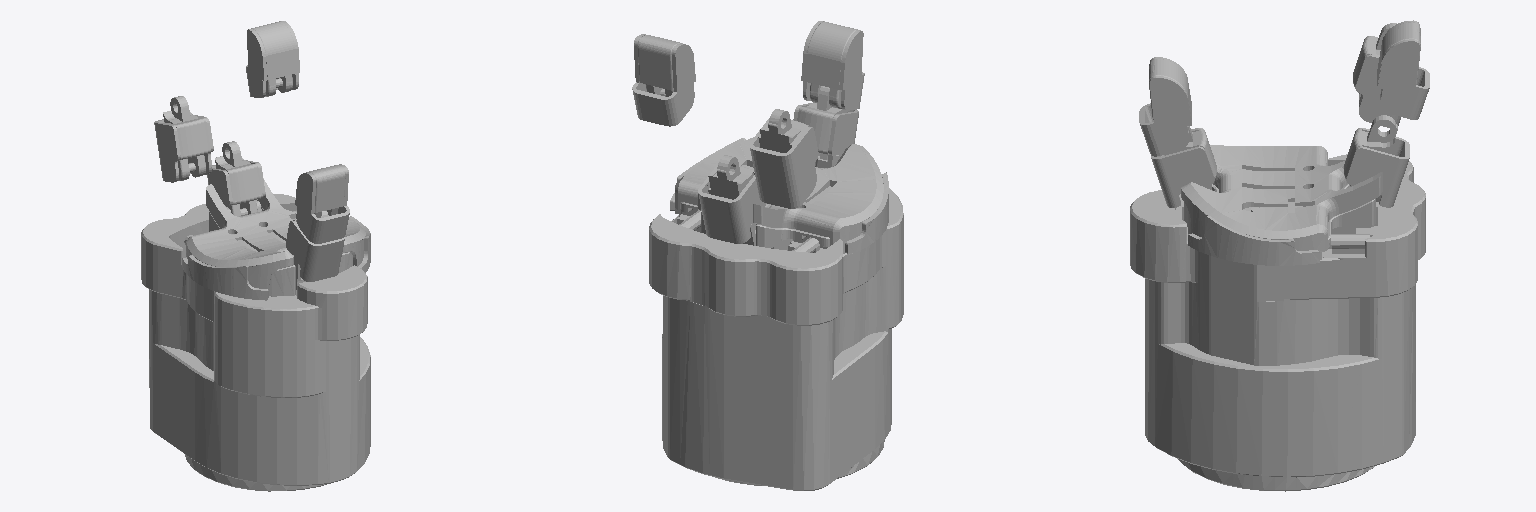
--- Render facts (derived) ---
3 views of the same robot in one strip: view 1: azimuth 30°, elevation 25°; view 2: azimuth 150°, elevation 25°; view 3: azimuth 270°, elevation 25° (orthographic).
Robot: heri_II_new — 21 links, 20 joints (19 revolute, 1 fixed); root link world; default pose: every joint at zero.
Links seen in each view (by area): view 1: base_link, LFP1_2, SFP1_2, LFP3_3, LFP2_1, SFB1_1; view 2: base_link, LFP1_2, LFP3_3, SFP1_2, LFP2_1, SFB1_1; view 3: base_link, LFP3_3, SFP1_2, LFP2_1, SFB1_1, LFP1_2.
Boxes of the visible links, x1,y1,x2,y2 form: base_link: [141, 178, 370, 491]; LFP1_2: [154, 96, 213, 182]; SFP1_2: [295, 164, 349, 243]; LFP3_3: [246, 21, 299, 97]; LFP2_1: [207, 141, 265, 216]; SFB1_1: [286, 211, 344, 281]; base_link: [649, 137, 903, 490]; LFP1_2: [750, 109, 818, 208]; LFP3_3: [632, 34, 695, 126]; SFP1_2: [801, 21, 864, 110]; LFP2_1: [698, 155, 766, 243]; SFB1_1: [793, 86, 858, 160]; base_link: [1130, 145, 1425, 491]; LFP3_3: [1377, 20, 1429, 119]; SFP1_2: [1139, 57, 1191, 156]; LFP2_1: [1344, 115, 1409, 207]; SFB1_1: [1151, 126, 1216, 207]; LFP1_2: [1353, 23, 1400, 127].
Size in the robot's own frame: 0.1112 by 0.142 by 0.2316 metres.
8 mesh visuals loaded from 16 distinct referenced files (8 binary STL); not drawn: 8 (reference not matched to a file when rendering).

The robot description file, URDF, robot "heri_II_new":
<?xml version="1.0" ?>
<!-- =================================================================================== -->
<!-- |    This document was autogenerated by xacro from heri_II_NL.xacro               | -->
<!-- |    EDITING THIS FILE BY HAND IS NOT RECOMMENDED                                 | -->
<!-- =================================================================================== -->
<robot name="heri_II_new" xmlns:xacro="http://ros.org/wiki/xacro">
  <!-- rosee plugin -->
  <gazebo>
    <plugin filename="libHeriIIPlugin.so" name="heri_controller">
      </plugin>
  </gazebo>
  <!-- /////////////////////////////////   Gazebo   ////////////////////////////////////// -->
  <gazebo reference="base_link">
    <fudgeFactor value="0.5"/>
    <material>Gazebo/Red</material>
  </gazebo>
  <gazebo reference="SFB1">
    <fudgeFactor value="0.5"/>
    <material>Gazebo/White</material>
  </gazebo>
  <gazebo reference="SFB1_1">
    <fudgeFactor value="0.5"/>
    <material>Gazebo/White</material>
  </gazebo>
  <gazebo reference="SFP1_2">
    <fudgeFactor value="0.5"/>
    <material>Gazebo/Blue</material>
  </gazebo>
  <gazebo reference="LFB1">
    <fudgeFactor value="0.5"/>
    <material>Gazebo/White</material>
  </gazebo>
  <gazebo reference="LFP1_1">
    <fudgeFactor value="0.5"/>
    <material>Gazebo/White</material>
  </gazebo>
  <gazebo reference="LFP1_2">
    <fudgeFactor value="0.5"/>
    <material>Gazebo/White</material>
  </gazebo>
  <gazebo reference="LFP1_3">
    <fudgeFactor value="0.5"/>
    <material>Gazebo/Blue</material>
  </gazebo>
  <gazebo reference="LFB2">
    <fudgeFactor value="0.5"/>
    <material>Gazebo/White</material>
  </gazebo>
  <gazebo reference="LFP2_1">
    <fudgeFactor value="0.5"/>
    <material>Gazebo/White</material>
  </gazebo>
  <gazebo reference="LFP2_2">
    <fudgeFactor value="0.5"/>
    <material>Gazebo/White</material>
  </gazebo>
  <gazebo reference="LFP2_3">
    <fudgeFactor value="0.5"/>
    <material>Gazebo/Blue</material>
  </gazebo>
  <material name="Black">
    <color rgba="0 0 0 1"/>
  </material>
  <material name="White">
    <color rgba="1 1 1 1"/>
  </material>
  <material name="Blue">
    <color rgba="0 0 1 1"/>
  </material>
  <material name="Red">
    <color rgba="1 0 0 1"/>
  </material>
  <!-- ///////////////////////////////////////   Short Finger   ////////////////////////////////////////// -->
  <!-- ///////////////////////////////////////   base_link   ////////////////////////////////////////// -->
  <link name="world"/>
  <joint name="world_base" type="fixed">
    <!-- z!= from 1 is necessary because otherwise the hand has tremors. I think this is because it compentetrate
     with the terrain ? -->
    <origin rpy="0 0 0" xyz="0 0 0.015"/>
    <parent link="world"/>
    <child link="base_link"/>
  </joint>
  <link name="base_link">
    <inertial>
      <origin rpy="0 0 0" xyz="0.00030739 0.003138 -0.0012876"/>
      <mass value="0.73864"/>
      <inertia ixx="0.0010292" ixy="-6.0935E-06" ixz="1.0739E-05" iyy="0.0011781" iyz="1.3882E-05" izz="0.00089393"/>
    </inertial>
    <visual>
      <origin rpy="0 0 0" xyz="0 0 0"/>
      <geometry>
        <mesh filename="package://ros_end_effector/configs/meshes/heri_II/base_heri_ii.STL"/>
      </geometry>
      <material name="">
        <color rgba="0.75294 0.75294 0.75294 1"/>
      </material>
    </visual>
    <collision>
      <origin rpy="0 0 0" xyz="0 0 0"/>
      <geometry>
        <mesh filename="package://ros_end_effector/configs/meshes/heri_II/base_heri_ii.STL"/>
      </geometry>
    </collision>
  </link>
  <!-- I Put motors as joints, linked to tree with virtual links  -->
  <link name="motor_finger1_virtual_link">
   <inertial> <!-- We need inertial otherwise gazebo does not load the motor joints. I put very low inertia-->
      <origin rpy="0 0 0" xyz="0 0 0"/>
      <mass value="0.01"/>
      <inertia ixx="0.0001" ixy="0.0" ixz="0.0" iyy="0.0001" iyz="0.0" izz="0.0001"/>
    </inertial>
  </link>
  <link name="motor_finger2_virtual_link">
   <inertial> <!-- We need inertial otherwise gazebo does not load the motor joints. I put very low inertia-->
      <origin rpy="0 0 0" xyz="0 0 0"/>
      <mass value="0.01"/>
      <inertia ixx="0.0001" ixy="0.0" ixz="0.0" iyy="0.0001" iyz="0.0" izz="0.0001"/>
    </inertial>
  </link>
  <link name="motor_finger3_virtual_link">
     <inertial> <!-- We need inertial otherwise gazebo does not load the motor joints. I put very low inertia-->
      <origin rpy="0 0 0" xyz="0 0 0"/>
      <mass value="0.01"/>
      <inertia ixx="0.0001" ixy="0.0" ixz="0.0" iyy="0.0001" iyz="0.0" izz="0.0001"/>
    </inertial>
  </link>
  <link name="motor_thumb_virtual_link">
     <inertial> <!-- We need inertial otherwise gazebo does not load the motor joints. I put very low inertia-->
      <origin rpy="0 0 0" xyz="0 0 0"/>
      <mass value="0.01"/>
      <inertia ixx="0.0001" ixy="0.0" ixz="0.0" iyy="0.0001" iyz="0.0" izz="0.0001"/>
    </inertial>
  </link>
  <joint name="motor_finger1" type="revolute">
    <origin rpy="0 0 0" xyz="0 0 0"/>
    <parent link="base_link"/>
    <child link="motor_finger1_virtual_link"/>
    <limit effort="10" lower="0" upper="2.5" velocity="1"/>
    <dynamics damping="0.003" friction="0.003"/>
  </joint>
  <joint name="motor_finger2" type="revolute">
    <origin rpy="0 0 0" xyz="0 0 0"/>
    <parent link="base_link"/>
    <child link="motor_finger2_virtual_link"/>
    <limit effort="10" lower="0" upper="2.5" velocity="1"/>
    <dynamics damping="0.003" friction="0.003"/>
  </joint>
  <joint name="motor_finger3" type="revolute">
    <origin rpy="0 0 0" xyz="0 0 0"/>
    <parent link="base_link"/>
    <child link="motor_finger3_virtual_link"/>
    <limit effort="10" lower="0" upper="2.5" velocity="1"/>
    <dynamics damping="0.003" friction="0.003"/>
  </joint>
  <joint name="motor_thumb" type="revolute">
    <origin rpy="1.5708 -1.5708 0" xyz="7.6421E-05 -0.031634 0.1213"/>
    <parent link="base_link"/>
    <child link="motor_thumb_virtual_link"/>
    <limit effort="10" lower="0" upper="2" velocity="1"/>
    <dynamics damping="0.003" friction="0.003"/>
  </joint>
  <!-- ///////////////////////////////////////   Base_Link of the short_finger   ////////////////////////////////////////// -->
  <link name="SFB1">
    <inertial>
      <origin rpy="0 0 0" xyz="3.9400487E-03 0 6.4488006E-03"/>
      <mass value="4.1065000E-03"/>
      <inertia ixx="4.3061452E-07" ixy="0" ixz="-1.2027573E-07" iyy="3.9605806E-07" iyz="0" izz="3.9738552E-07"/>
    </inertial>
    <visual>
      <origin rpy="0 0 0" xyz="0 0 0"/>
      <geometry>
        <mesh filename="package://ros_end_effector/configs/meshes/heri_II/SFB1.STL"/>
      </geometry>
      <material name="">
        <color rgba="0.75294 0.75294 0.75294 1"/>
      </material>
    </visual>
    <collision>
      <origin rpy="0 0 0" xyz="0 0 0"/>
      <geometry>
        <mesh filename="package://ros_end_effector/configs/meshes/heri_II/SFB1.STL"/>
      </geometry>
    </collision>
  </link>
  <!-- ///////////////////////////////////////   Joint of BASE and the base_link of the short finger   ////////////////////////////////////////// -->
  <joint name="BASE__SFB1" type="revolute">
    <origin rpy="1.5708 -1.5708 0" xyz="7.6421E-05 -0.031634 0.1213"/>
    <parent link="base_link"/>
    <child link="SFB1"/>
    <axis xyz="0 0 1"/>
    <limit effort="10" lower="-0.1" upper="0.1" velocity="1"/>
    <dynamics damping="0.003" friction="0.003"/>
  </joint>
  <!-- ///////////////////////////////////////   First phalanx of the Short_Finger   ////////////////////////////////////////// -->
  <link name="SFB1_1">
    <inertial>
      <origin rpy="0 0 0" xyz="0.013537693 -0.00011389541 0.00014514898"/>
      <mass value="0.021630428"/>
      <inertia ixx="1.7547572E-06" ixy="1.2425281E-07" ixz="-5.2776703E-08" iyy="7.3422819E-06" iyz="-1.1395559E-09" izz="7.1587820E-06"/>
    </inertial>
    <visual>
      <origin rpy="0 0 0" xyz="0 0 0"/>
      <geometry>
        <mesh filename="package://ros_end_effector/configs/meshes/heri_II/SFB1_1.STL"/>
      </geometry>
      <material name="">
        <color rgba="0.75294 0.75294 0.75294 1"/>
      </material>
    </visual>
    <collision>
      <origin rpy="0 0 0" xyz="0 0 0"/>
      <geometry>
        <mesh filename="package://ros_end_effector/configs/meshes/heri_II/SFB1_1.STL"/>
      </geometry>
    </collision>
  </link>
  <!-- ///////////////////////////////////////   Joint of base_link and the first phalanx of the short finger   ////////////////////////////////////////// -->
  <joint name="SFB1__SFP1_1" type="revolute">
    <origin rpy="1.5708 -0.29671 0" xyz="0.011 0 0.007"/>
    <parent link="SFB1"/>
    <child link="SFB1_1"/>
    <axis xyz="0 0 -1"/>
    <limit effort="10" lower="-0.1" upper="0.9" velocity="1"/>
    <dynamics damping="0.003" friction="0.003"/>
    <!-- joint of the first phalange of thumb -->
    <mimic joint="motor_thumb" nlFunPos="-9.144*x^4 + 11.02*x^3 + -3.932*x^2 + 1.401*x + -0.002157"/>
  </joint>
  <!-- ///////////////////////////////////////   Tip phalanx of the short finger   ////////////////////////////////////////// -->
  <link name="SFP1_2">
    <inertial>
      <origin rpy="0 0 0" xyz="0.012398348 -0.00034958691 0.000050212619"/>
      <mass value="0.02226615"/>
      <inertia ixx="1.7400409E-06" ixy="4.4309075E-07" ixz="-1.3771833E-08" iyy="6.8917616E-06" iyz="6.4562527E-09" izz="6.4653229E-06"/>
    </inertial>
    <visual>
      <origin rpy="0 0 0" xyz="0 0 0"/>
      <geometry>
        <mesh filename="package://ros_end_effector/configs/meshes/heri_II/SFP1_2.STL"/>
      </geometry>
      <material name="">
        <color rgba="0.75294 0.75294 0.75294 1"/>
      </material>
    </visual>
    <collision>
      <origin rpy="0 0 0" xyz="0 0 0"/>
      <geometry>
        <mesh filename="package://ros_end_effector/configs/meshes/heri_II/SFP1_2.STL"/>
      </geometry>
    </collision>
  </link>
  <!-- ///////////////////////////////////////   Joint of first and tip phalanxs of the short finger   ////////////////////////////////////////// -->
  <joint name="SFP1_1__SFP1_2" type="revolute">
    <origin rpy="0 0 0" xyz="0.035 0 0"/>
    <parent link="SFB1_1"/>
    <child link="SFP1_2"/>
    <axis xyz="0 0 -1"/>
    <limit effort="10" lower="-0.1" upper="1.2" velocity="1"/>
    <dynamics damping="0.003" friction="0.003"/>
    <!-- joint of the 2 phalange of thumb -->
    <mimic joint="motor_thumb" nlFunPos="6.076*x^4 + -7.902*x^3 + 2.248*x^2 + 0.739*x + 0.001644"/>
  </joint>
  <!-- ///////////////////////////////////////   Long finger 1   ////////////////////////////////////////// -->
  <!-- ///////////////////////////////////////   Base_Link of the long_finger   ////////////////////////////////////////// -->
  <link name="LFB1">
    <inertial>
      <origin rpy="0 0 0" xyz="0.000045491656 -0.0037522651 0.0064111226"/>
      <mass value="0.0039598861"/>
      <inertia ixx="4.3061452E-07" ixy="0" ixz="-1.2027573E-07" iyy="3.9605806E-07" iyz="0" izz="3.9738552E-07"/>
    </inertial>
    <visual>
      <origin rpy="0 0 0" xyz="0 0 0"/>
      <geometry>
        <mesh filename="package://ros_end_effector/configs/meshes/heri_II/LFB1.STL"/>
      </geometry>
      <material name="">
        <color rgba="0.75294 0.75294 0.75294 1"/>
      </material>
    </visual>
    <collision>
      <origin rpy="0 0 0" xyz="0 0 0"/>
      <geometry>
        <mesh filename="package://ros_end_effector/configs/meshes/heri_II/LFB1.STL"/>
      </geometry>
    </collision>
  </link>
  <!-- ///////////////////////////////////////   Joint of BASE and the base_link of the short finger   ////////////////////////////////////////// -->
  <joint name="BASE__LFB1" type="revolute">
    <origin rpy="1.5708 -1.5708 3.1415927" xyz="-0.031002 0.025903 0.1213"/>
    <parent link="base_link"/>
    <child link="LFB1"/>
    <axis xyz="0 0 1"/>
    <limit effort="10" lower="-0.1" upper="0.1" velocity="1"/>
    <dynamics damping="0.003" friction="0.003"/>
  </joint>
  <!-- ///////////////////////////////////////   First phalanx of the Long_Finger   ////////////////////////////////////////// -->
  <link name="LFP1_1">
    <inertial>
      <origin rpy="0 0 0" xyz="0.013537693 -0.00011389541 0.00014514898"/>
      <mass value="0.021630428"/>
      <inertia ixx="1.7547572E-06" ixy="1.2425281E-07" ixz="-5.2776703E-08" iyy="7.3422819E-06" iyz="-1.1395559E-09" izz="7.1587820E-06"/>
    </inertial>
    <visual>
      <origin rpy="0 0 0" xyz="0 0 0"/>
      <geometry>
        <mesh filename="package://ros_end_effector/configs/meshes/heri_II/LFP1_1.STL"/>
      </geometry>
      <material name="">
        <color rgba="0.75294 0.75294 0.75294 1"/>
      </material>
    </visual>
    <collision>
      <origin rpy="0 0 0" xyz="0 0 0"/>
      <geometry>
        <mesh filename="package://ros_end_effector/configs/meshes/heri_II/LFP1_1.STL"/>
      </geometry>
    </collision>
  </link>
  <!-- ///////////////////////////////////////   Joint of base_link and the first phalanx of the short finger   ////////////////////////////////////////// -->
  <joint name="LFB1__LFP1_1" type="revolute">
    <origin rpy="1.5708 -0.29671 0" xyz="0.011 0 0.007"/>
    <parent link="LFB1"/>
    <child link="LFP1_1"/>
    <axis xyz="0 0 -1"/>
    <limit effort="10" lower="-0.1" upper="0.9" velocity="1"/>
    <dynamics damping="0.003" friction="0.003"/>
    <!-- joint of the first phalange -->
    <!-- <mimic joint="motor_finger1" nlFunPos="where(x&lt;1, -3.986*x^5 + 8.428*x^4 + -5.14*x^3 + 0.6392*x^2 + 0.6254*x + 0.001261, 0.9)"/> -->
    <mimic joint="motor_finger1" nlFunPos="-3.986*x^5 + 8.428*x^4 + -5.14*x^3 + 0.6392*x^2 + 0.6254*x + 0.001261"/>
  </joint>
  <!-- ///////////////////////////////////////   Second phalanx of the Long_Finger   ////////////////////////////////////////// -->
  <link name="LFP1_2">
    <inertial>
      <origin rpy="0 0 0" xyz="0.012816858 0.00029615072 0.00012767631"/>
      <mass value="0.022869549"/>
      <inertia ixx="1.9943688E-06" ixy="1.3380251E-07" ixz="-5.3468405E-08" iyy="7.4922799E-06" iyz="-9.2812315E-10" izz="7.3102836E-06"/>
    </inertial>
    <visual>
      <origin rpy="0 0 0" xyz="0 0 0"/>
      <geometry>
        <mesh filename="package://ros_end_effector/configs/meshes/heri_II/LFP1_2.STL"/>
      </geometry>
      <material name="">
        <color rgba="0.75294 0.75294 0.75294 1"/>
      </material>
    </visual>
    <collision>
      <origin rpy="0 0 0" xyz="0 0 0"/>
      <geometry>
        <mesh filename="package://ros_end_effector/configs/meshes/heri_II/LFP1_2.STL"/>
      </geometry>
    </collision>
  </link>
  <!-- ///////////////////////////////////////   Joint of base_link and the first phalanx of the long finger   ////////////////////////////////////////// -->
  <joint name="LFP1_1__LFP1_2" type="revolute">
    <origin rpy="0 0 0" xyz="0.035 0 0"/>
    <parent link="LFP1_1"/>
    <child link="LFP1_2"/>
    <axis xyz="0 0 -1"/>
    <limit effort="10" lower="-0.1" upper="0.5" velocity="1"/>
    <dynamics damping="0.06" friction="0.05"/>
    <!-- joint of the 2 phalange -->
    <mimic joint="motor_finger1" nlFunPos="0.1099*x^4 + -0.6142*x^3 + 0.4386*x^2 +0.658*x + 0.0009892"/>
  </joint>
  <!-- ///////////////////////////////////////   Tip phalanx of the long finger   ////////////////////////////////////////// -->
  <link name="LFP1_3">
    <inertial>
      <origin rpy="0 0 0" xyz="0.012398348 -0.00034958691 0.000050212619"/>
      <mass value="0.02226615"/>
      <inertia ixx="1.7400409E-06" ixy="4.4309075E-07" ixz="-1.3771833E-08" iyy="6.8917616E-06" iyz="6.4562527E-09" izz="6.4653229E-06"/>
    </inertial>
    <visual>
      <origin rpy="0 0 0" xyz="0 0 0"/>
      <geometry>
        <mesh filename="package://ros_end_effector/configs/meshes/heri_II/LFP1_3.STL"/>
      </geometry>
      <material name="">
        <color rgba="0.75294 0.75294 0.75294 1"/>
      </material>
    </visual>
    <collision>
      <origin rpy="0 0 0" xyz="0 0 0"/>
      <geometry>
        <mesh filename="package://ros_end_effector/configs/meshes/heri_II/LFP1_3.STL"/>
      </geometry>
    </collision>
  </link>
  <!-- ///////////////////////////////////////   Joint of second and tip phalanxs of the long finger   ////////////////////////////////////////// -->
  <joint name="LFP1_2__LFP1_3" type="revolute">
    <origin rpy="0 0 0" xyz="0.035 0 0"/>
    <parent link="LFP1_2"/>
    <child link="LFP1_3"/>
    <axis xyz="0 0 -1"/>
    <limit effort="10" lower="-0.1" upper="0.5" velocity="1"/>
    <dynamics damping="0.003" friction="0.003"/>
    <!-- joint of the 3 phalange -->
    <mimic joint="motor_finger1" nlFunPos="0.08032*x^4 + -0.216*x^3 + -0.07007*x^2 +0.5351*x + 0.000428"/>
  </joint>
  <!-- ///////////////////////////////////////   Long finger 2   ////////////////////////////////////////// -->
  <!-- ///////////////////////////////////////   Base_Link of the long_finger   ////////////////////////////////////////// -->
  <link name="LFB2">
    <inertial>
      <origin rpy="0 0 0" xyz="0.000045491656 -0.0037522651 0.0064111226"/>
      <mass value="0.0039598861"/>
      <inertia ixx="4.3061452E-07" ixy="0" ixz="-1.2027573E-07" iyy="3.9605806E-07" iyz="0" izz="3.9738552E-07"/>
    </inertial>
    <visual>
      <origin rpy="0 0 0" xyz="0 0 0"/>
      <geometry>
        <mesh filename="package://ros_end_effector/configs/meshes/heri_II/LFB2.STL"/>
      </geometry>
      <material name="">
        <color rgba="0.75294 0.75294 0.75294 1"/>
      </material>
    </visual>
    <collision>
      <origin rpy="0 0 0" xyz="0 0 0"/>
      <geometry>
        <mesh filename="package://ros_end_effector/configs/meshes/heri_II/LFB2.STL"/>
      </geometry>
    </collision>
  </link>
  <!-- ///////////////////////////////////////   Joint of BASE and the base_link of the short finger   ////////////////////////////////////////// -->
  <joint name="BASE__LFB2" type="revolute">
    <origin rpy="1.5708 -1.5708 3.1415927" xyz="0 0.031903 0.1213"/>
    <parent link="base_link"/>
    <child link="LFB2"/>
    <axis xyz="0 0 1"/>
    <limit effort="10" lower="-0.1" upper="0.1" velocity="1"/>
    <dynamics damping="0.003" friction="0.003"/>
  </joint>
  <!-- ///////////////////////////////////////   First phalanx of the Long_Finger   ////////////////////////////////////////// -->
  <link name="LFP2_1">
    <inertial>
      <origin rpy="0 0 0" xyz="0.013537693 -0.00011389541 0.00014514898"/>
      <mass value="0.021630428"/>
      <inertia ixx="1.7547572E-06" ixy="1.2425281E-07" ixz="-5.2776703E-08" iyy="7.3422819E-06" iyz="-1.1395559E-09" izz="7.1587820E-06"/>
    </inertial>
    <visual>
      <origin rpy="0 0 0" xyz="0 0 0"/>
      <geometry>
        <mesh filename="package://ros_end_effector/configs/meshes/heri_II/LFP2_1.STL"/>
      </geometry>
      <material name="">
        <color rgba="0.75294 0.75294 0.75294 1"/>
      </material>
    </visual>
    <collision>
      <origin rpy="0 0 0" xyz="0 0 0"/>
      <geometry>
        <mesh filename="package://ros_end_effector/configs/meshes/heri_II/LFP2_1.STL"/>
      </geometry>
    </collision>
  </link>
  <!-- ///////////////////////////////////////   Joint of base_link and the first phalanx of the short finger   ////////////////////////////////////////// -->
  <joint name="LFB2__LFP2_1" type="revolute">
    <origin rpy="1.5708 -0.29671 0" xyz="0.011 0 0.007"/>
    <parent link="LFB2"/>
    <child link="LFP2_1"/>
    <axis xyz="0 0 -1"/>
    <limit effort="10" lower="-0.1" upper="0.73" velocity="1"/>
    <dynamics damping="0.003" friction="0.003"/>
    <!-- joint of the first phalange -->
    <mimic joint="motor_finger2" nlFunPos="-3.986*x^5 + 8.428*x^4 + -5.14*x^3 + 0.6392*x^2 + 0.6254*x + 0.001261"/>
  </joint>
  <!-- ///////////////////////////////////////   Second phalanx of the Long_Finger   ////////////////////////////////////////// -->
  <link name="LFP2_2">
    <inertial>
      <origin rpy="0 0 0" xyz="0.012816858 0.00029615072 0.00012767631"/>
      <mass value="0.022869549"/>
      <inertia ixx="1.9943688E-06" ixy="1.3380251E-07" ixz="-5.3468405E-08" iyy="7.4922799E-06" iyz="-9.2812315E-10" izz="7.3102836E-06"/>
    </inertial>
    <visual>
      <origin rpy="0 0 0" xyz="0 0 0"/>
      <geometry>
        <mesh filename="package://ros_end_effector/configs/meshes/heri_II/LFP2_2.STL"/>
      </geometry>
      <material name="">
        <color rgba="0.75294 0.75294 0.75294 1"/>
      </material>
    </visual>
    <collision>
      <origin rpy="0 0 0" xyz="0 0 0"/>
      <geometry>
        <mesh filename="package://ros_end_effector/configs/meshes/heri_II/LFP2_2.STL"/>
      </geometry>
    </collision>
  </link>
  <!-- ///////////////////////////////////////   Joint of base_link and the first phalanx of the short finger   ////////////////////////////////////////// -->
  <joint name="LFP2_1__LFP2_2" type="revolute">
    <origin rpy="0 0 0" xyz="0.035 0 0"/>
    <parent link="LFP2_1"/>
    <child link="LFP2_2"/>
    <axis xyz="0 0 -1"/>
    <limit effort="10" lower="-0.1" upper="0.5" velocity="1"/>
    <dynamics damping="0.003" friction="0.003"/>
    <!-- joint of the 2 phalange -->
    <mimic joint="motor_finger2" nlFunPos="0.1099*x^4 + -0.6142*x^3 + 0.4386*x^2 +0.658*x + 0.0009892"/>
  </joint>
  <!-- ///////////////////////////////////////   Tip phalanx of the long finger   ////////////////////////////////////////// -->
  <link name="LFP2_3">
    <inertial>
      <origin rpy="0 0 0" xyz="0.012398348 -0.00034958691 0.000050212619"/>
      <mass value="0.02226615"/>
      <inertia ixx="1.7400409E-06" ixy="4.4309075E-07" ixz="-1.3771833E-08" iyy="6.8917616E-06" iyz="6.4562527E-09" izz="6.4653229E-06"/>
    </inertial>
    <visual>
      <origin rpy="0 0 0" xyz="0 0 0"/>
      <geometry>
        <mesh filename="package://ros_end_effector/configs/meshes/heri_II/LFP2_3.STL"/>
      </geometry>
      <material name="">
        <color rgba="0.75294 0.75294 0.75294 1"/>
      </material>
    </visual>
    <collision>
      <origin rpy="0 0 0" xyz="0 0 0"/>
      <geometry>
        <mesh filename="package://ros_end_effector/configs/meshes/heri_II/LFP2_3.STL"/>
      </geometry>
    </collision>
  </link>
  <!-- ///////////////////////////////////////   Joint of second and tip phalanxs of the long finger   ////////////////////////////////////////// -->
  <joint name="LFP2_2__LFP2_3" type="revolute">
    <origin rpy="0 0 0" xyz="0.035 0 0"/>
    <parent link="LFP2_2"/>
    <child link="LFP2_3"/>
    <axis xyz="0 0 -1"/>
    <limit effort="10" lower="-0.1" upper="0.5" velocity="1"/>
    <dynamics damping="0.06" friction="0.05"/>
    <!-- joint of the 3 phalange -->
    <mimic joint="motor_finger2" nlFunPos="0.08032*x^4 + -0.216*x^3 + -0.07007*x^2 +0.5351*x + 0.000428"/>
  </joint>
  <!-- ///////////////////////////////////////   Long finger 3   ////////////////////////////////////////// -->
  <!-- ///////////////////////////////////////   Base_Link of the long_finger   ////////////////////////////////////////// -->
  <link name="LFB3">
    <inertial>
      <origin rpy="0 0 0" xyz="0.000045491656 -0.0037522651 0.0064111226"/>
      <mass value="0.0039598861"/>
      <inertia ixx="4.3061452E-07" ixy="0" ixz="-1.2027573E-07" iyy="3.9605806E-07" iyz="0" izz="3.9738552E-07"/>
    </inertial>
    <visual>
      <origin rpy="0 0 0" xyz="0 0 0"/>
      <geometry>
        <mesh filename="package://ros_end_effector/configs/meshes/heri_II/LFB3.STL"/>
      </geometry>
      <material name="">
        <color rgba="0.75294 0.75294 0.75294 1"/>
      </material>
    </visual>
    <collision>
      <origin rpy="0 0 0" xyz="0 0 0"/>
      <geometry>
        <mesh filename="package://ros_end_effector/configs/meshes/heri_II/LFB3.STL"/>
      </geometry>
    </collision>
  </link>
  <!-- ///////////////////////////////////////   Joint of BASE and the base_link of the short finger   ////////////////////////////////////////// -->
  <joint name="BASE__LFB3" type="revolute">
    <origin rpy="1.5708 -1.5708 3.1415927" xyz="0.030998 0.025903 0.1213"/>
    <parent link="base_link"/>
    <child link="LFB3"/>
    <axis xyz="0 0 1"/>
    <limit effort="10" lower="-0.1" upper="0.1" velocity="1"/>
    <dynamics damping="0.003" friction="0.003"/>
  </joint>
  <!-- ///////////////////////////////////////   First phalanx of the Long_Finger   ////////////////////////////////////////// -->
  <link name="LFP3_1">
    <inertial>
      <origin rpy="0 0 0" xyz="0.013537693 -0.00011389541 0.00014514898"/>
      <mass value="0.021630428"/>
      <inertia ixx="1.7547572E-06" ixy="1.2425281E-07" ixz="-5.2776703E-08" iyy="7.3422819E-06" iyz="-1.1395559E-09" izz="7.1587820E-06"/>
    </inertial>
    <visual>
      <origin rpy="0 0 0" xyz="0 0 0"/>
      <geometry>
        <mesh filename="package://ros_end_effector/configs/meshes/heri_II/LFP3_1.STL"/>
      </geometry>
      <material name="">
        <color rgba="0.75294 0.75294 0.75294 1"/>
      </material>
    </visual>
    <collision>
      <origin rpy="0 0 0" xyz="0 0 0"/>
      <geometry>
        <mesh filename="package://ros_end_effector/configs/meshes/heri_II/LFP3_1.STL"/>
      </geometry>
    </collision>
  </link>
  <!-- ///////////////////////////////////////   Joint of base_link and the first phalanx of the short finger   ////////////////////////////////////////// -->
  <joint name="LFB3__LFP3_1" type="revolute">
    <origin rpy="1.5708 -0.29671 0" xyz="0.011 0 0.007"/>
    <parent link="LFB3"/>
    <child link="LFP3_1"/>
    <axis xyz="0 0 -1"/>
    <limit effort="10" lower="-0.1" upper="0.9" velocity="1"/>
    <dynamics damping="0.003" friction="0.003"/>
    <!-- joint of the first phalange -->
    <mimic joint="motor_finger3" nlFunPos="-3.986*x^5 + 8.428*x^4 + -5.14*x^3 + 0.6392*x^2 + 0.6254*x + 0.001261"/>
  </joint>
  <!-- ///////////////////////////////////////   Second phalanx of the Long_Finger   ////////////////////////////////////////// -->
  <link name="LFP3_2">
    <inertial>
      <origin rpy="0 0 0" xyz="0.012816858 0.00029615072 0.00012767631"/>
      <mass value="0.022869549"/>
      <inertia ixx="1.9943688E-06" ixy="1.3380251E-07" ixz="-5.3468405E-08" iyy="7.4922799E-06" iyz="-9.2812315E-10" izz="7.3102836E-06"/>
    </inertial>
    <visual>
      <origin rpy="0 0 0" xyz="0 0 0"/>
      <geometry>
        <mesh filename="package://ros_end_effector/configs/meshes/heri_II/LFP3_2.STL"/>
      </geometry>
      <material name="">
        <color rgba="0.75294 0.75294 0.75294 1"/>
      </material>
    </visual>
    <collision>
      <origin rpy="0 0 0" xyz="0 0 0"/>
      <geometry>
        <mesh filename="package://ros_end_effector/configs/meshes/heri_II/LFP3_2.STL"/>
      </geometry>
    </collision>
  </link>
  <!-- ///////////////////////////////////////   Joint of base_link and the first phalanx of the short finger   ////////////////////////////////////////// -->
  <joint name="LFP3_1__LFP3_2" type="revolute">
    <origin rpy="0 0 0" xyz="0.035 0 0"/>
    <parent link="LFP3_1"/>
    <child link="LFP3_2"/>
    <axis xyz="0 0 -1"/>
    <limit effort="10" lower="-0.1" upper="0.5" velocity="1"/>
    <dynamics damping="0.003" friction="0.003"/>
    <!-- joint of the 2 phalange -->
    <mimic joint="motor_finger3" nlFunPos="0.1099*x^4 + -0.6142*x^3 + 0.4386*x^2 +0.658*x + 0.0009892"/>
  </joint>
  <!-- ///////////////////////////////////////   Tip phalanx of the long finger   ////////////////////////////////////////// -->
  <link name="LFP3_3">
    <inertial>
      <origin rpy="0 0 0" xyz="0.012398348 -0.00034958691 0.000050212619"/>
      <mass value="0.02226615"/>
      <inertia ixx="1.7400409E-06" ixy="4.4309075E-07" ixz="-1.3771833E-08" iyy="6.8917616E-06" iyz="6.4562527E-09" izz="6.4653229E-06"/>
    </inertial>
    <visual>
      <origin rpy="0 0 0" xyz="0 0 0"/>
      <geometry>
        <mesh filename="package://ros_end_effector/configs/meshes/heri_II/LFP3_3.STL"/>
      </geometry>
      <material name="">
        <color rgba="0.75294 0.75294 0.75294 1"/>
      </material>
    </visual>
    <collision>
      <origin rpy="0 0 0" xyz="0 0 0"/>
      <geometry>
        <mesh filename="package://ros_end_effector/configs/meshes/heri_II/LFP3_3.STL"/>
      </geometry>
    </collision>
  </link>
  <!-- ///////////////////////////////////////   Joint of second and tip phalanxs of the long finger   ////////////////////////////////////////// -->
  <joint name="LFP3_2__LFP3_3" type="revolute">
    <origin rpy="0 0 0" xyz="0.035 0 0"/>
    <parent link="LFP3_2"/>
    <child link="LFP3_3"/>
    <axis xyz="0 0 -1"/>
    <limit effort="10" lower="-0.1" upper="0.5" velocity="1"/>
    <dynamics damping="0.003" friction="0.003"/>
    <!-- joint of the 3 phalange -->
    <mimic joint="motor_finger3" nlFunPos="0.08032*x^4 + -0.216*x^3 + -0.07007*x^2 +0.5351*x + 0.000428"/>
  </joint>
</robot>
